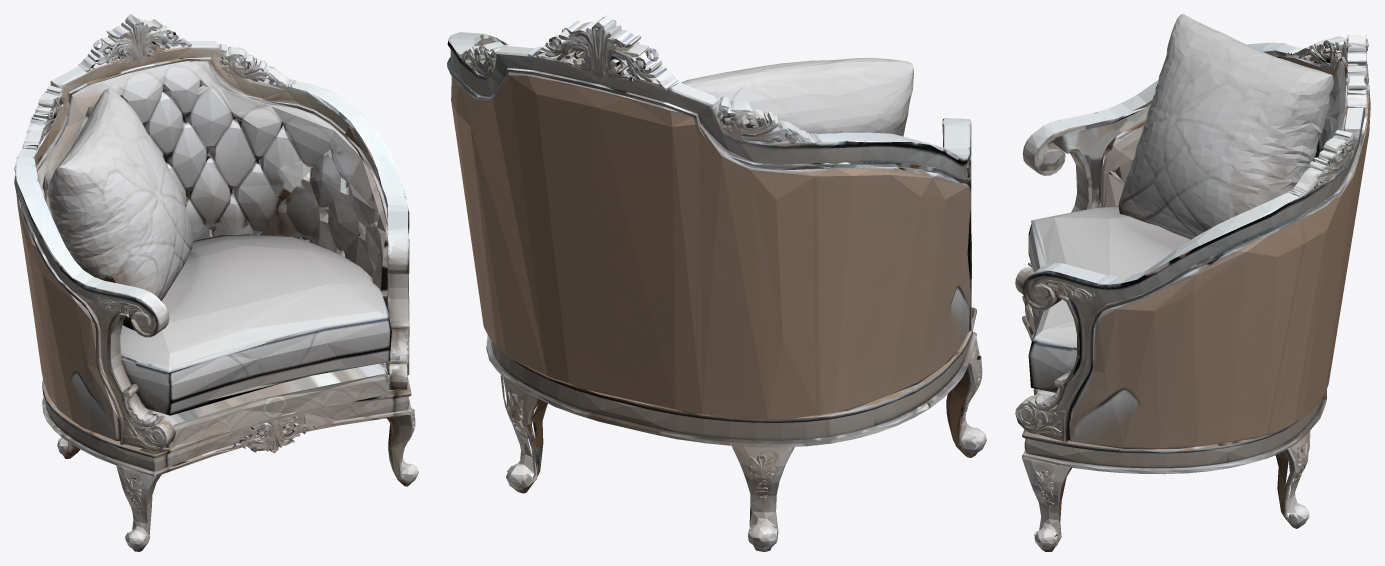
The model's file is edited_mesh.glb.
The picture shows the model from 3 angles, left to right: view 1: azimuth 30°, elevation 25°; view 2: azimuth 150°, elevation 25°; view 3: azimuth 270°, elevation 25°; orthographic projection. The views are drawn at different scales.
Visible parts, largest first — view 1: solid_001_wire; view 2: solid_001_wire; view 3: solid_001_wire.
Part boxes in pixels (x1,y1,x2,y2): solid_001_wire: (14,14,418,551); solid_001_wire: (447,14,986,551); solid_001_wire: (1015,14,1370,551).
Size of the model in its own units: 1.26 by 1.37 by 0.9974.
1 material, 1 textured.
